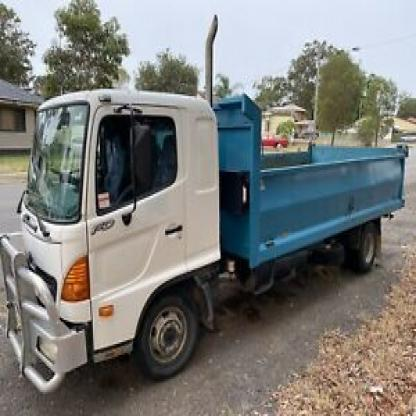dump_truck: (4, 74, 409, 392)
